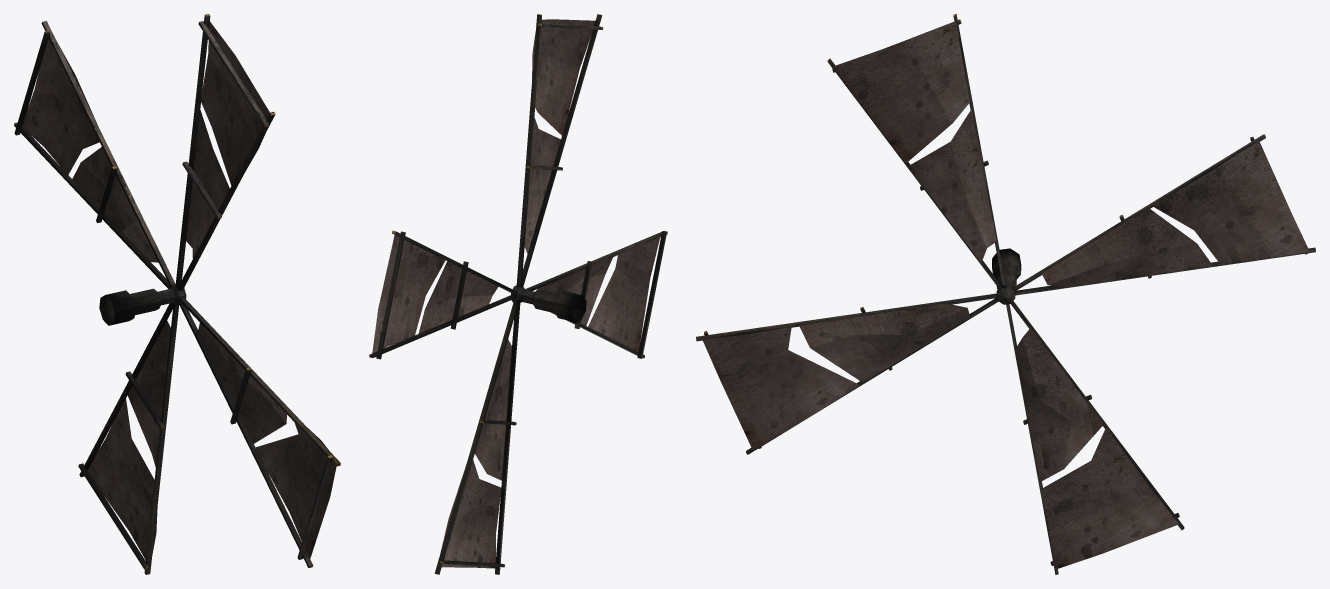
The model's file is finalbladesok.obj.
3 views of the same model, side by side, from view 1: azimuth 30°, elevation 25°; view 2: azimuth 150°, elevation 25°; view 3: azimuth 270°, elevation 25° (orthographic). The views are drawn at different scales.
Parts seen in each view (by area): view 1: lopatky_Circle.003; view 2: lopatky_Circle.003; view 3: lopatky_Circle.003.
Part boxes in pixels (box(x1,y1,x2,y2)): lopatky_Circle.003: box(14, 14, 340, 574); lopatky_Circle.003: box(369, 14, 667, 574); lopatky_Circle.003: box(696, 14, 1315, 574).
Size of the model in its own units: 1.18 by 8.28 by 8.28.
Materials: 1 (1 with a texture image).
